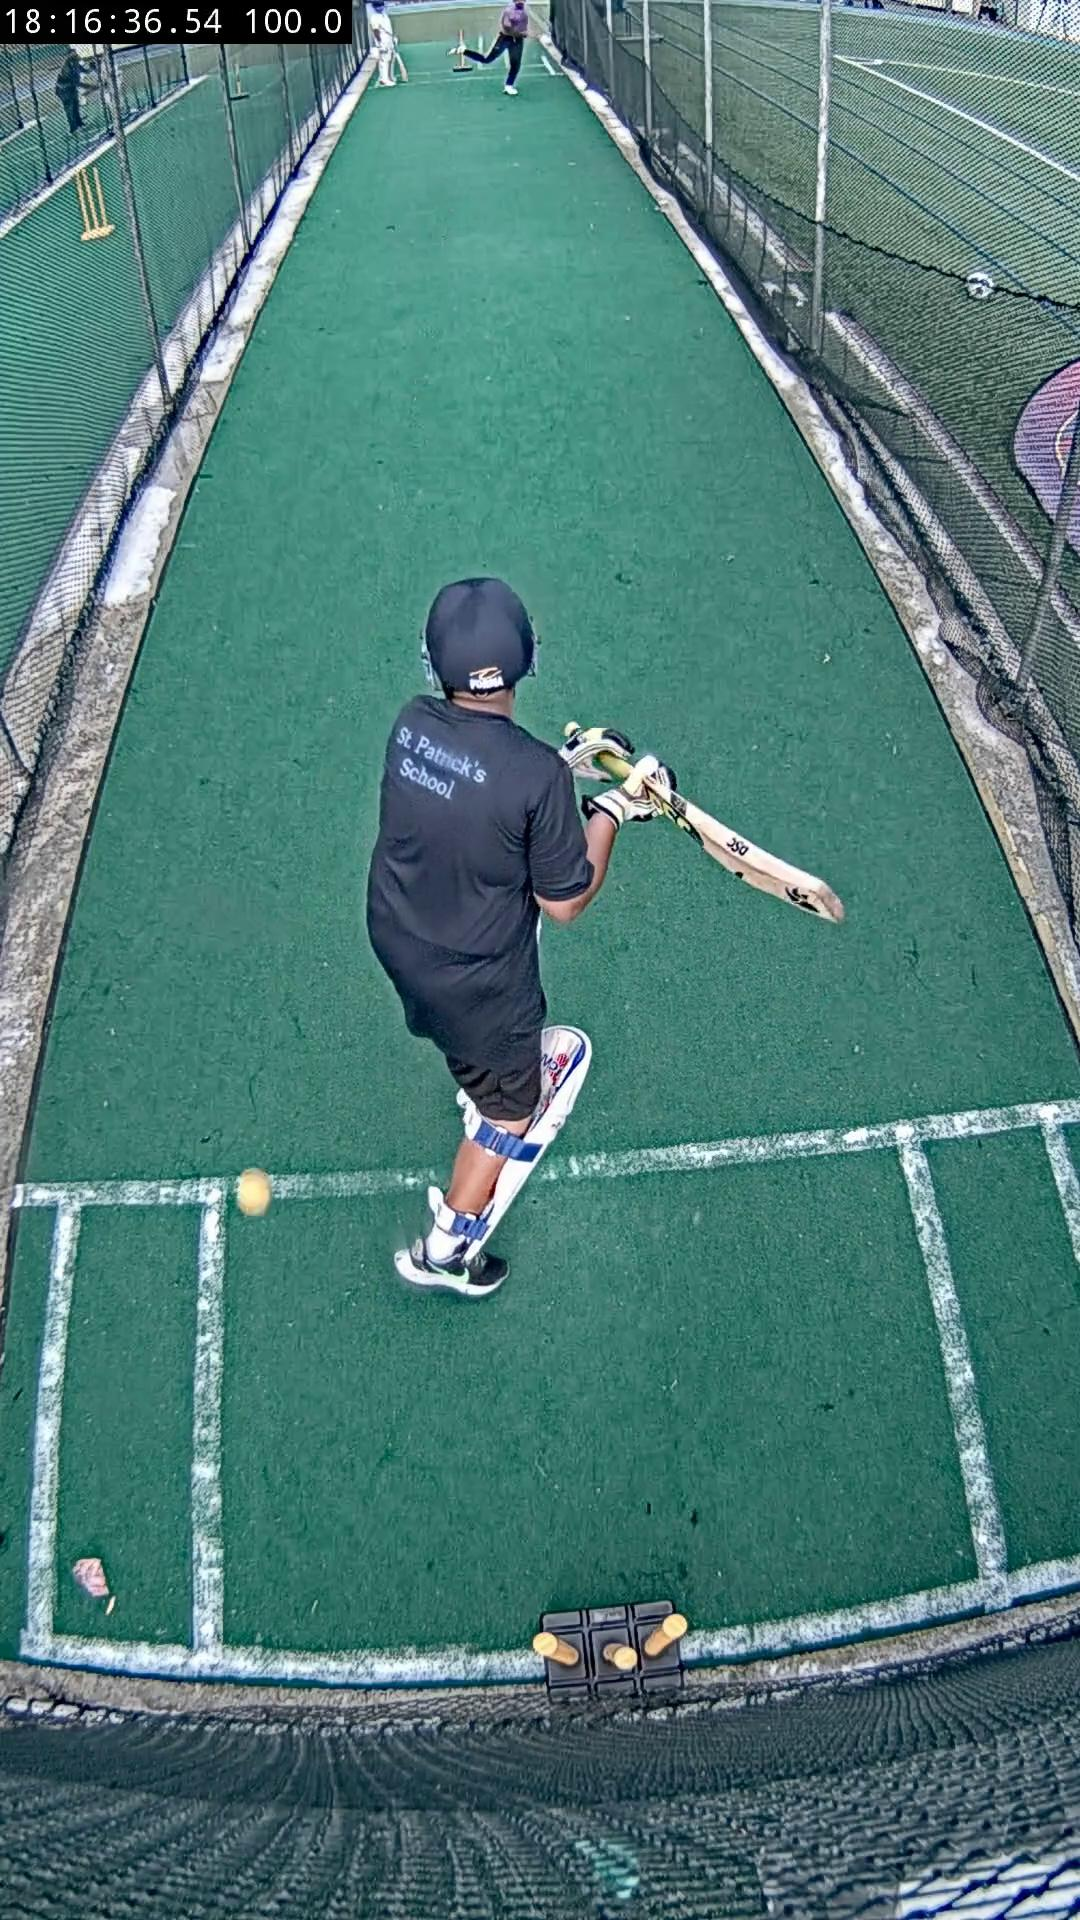ball: (236, 1170, 274, 1215)
bat: (649, 783, 844, 923)
gloves: (582, 754, 675, 825), (559, 724, 634, 777)
helmet: (423, 578, 537, 694)
pads: (465, 1023, 592, 1257)
stumps: (533, 1601, 686, 1701)
